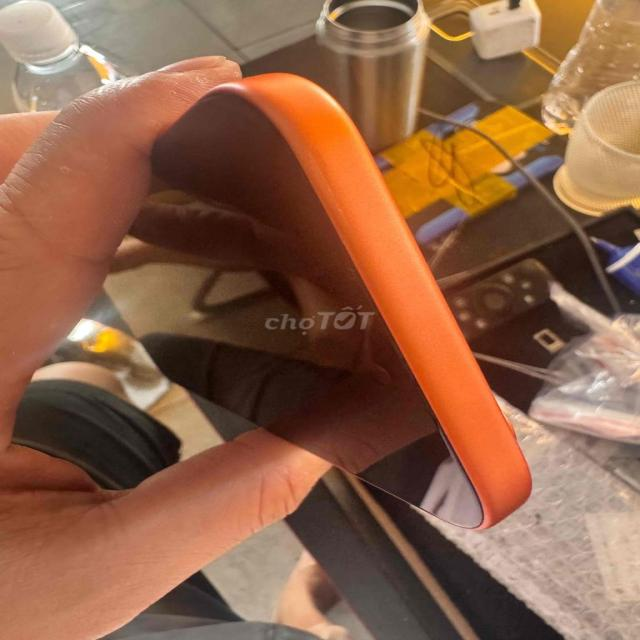gen_17: (115, 74, 530, 529)
